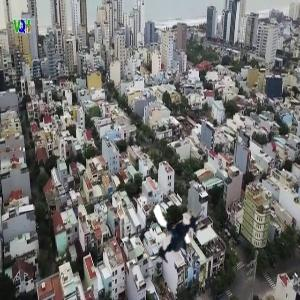drone: (136, 189, 214, 267)
